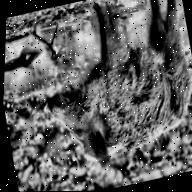boar: (8, 0, 192, 190)
